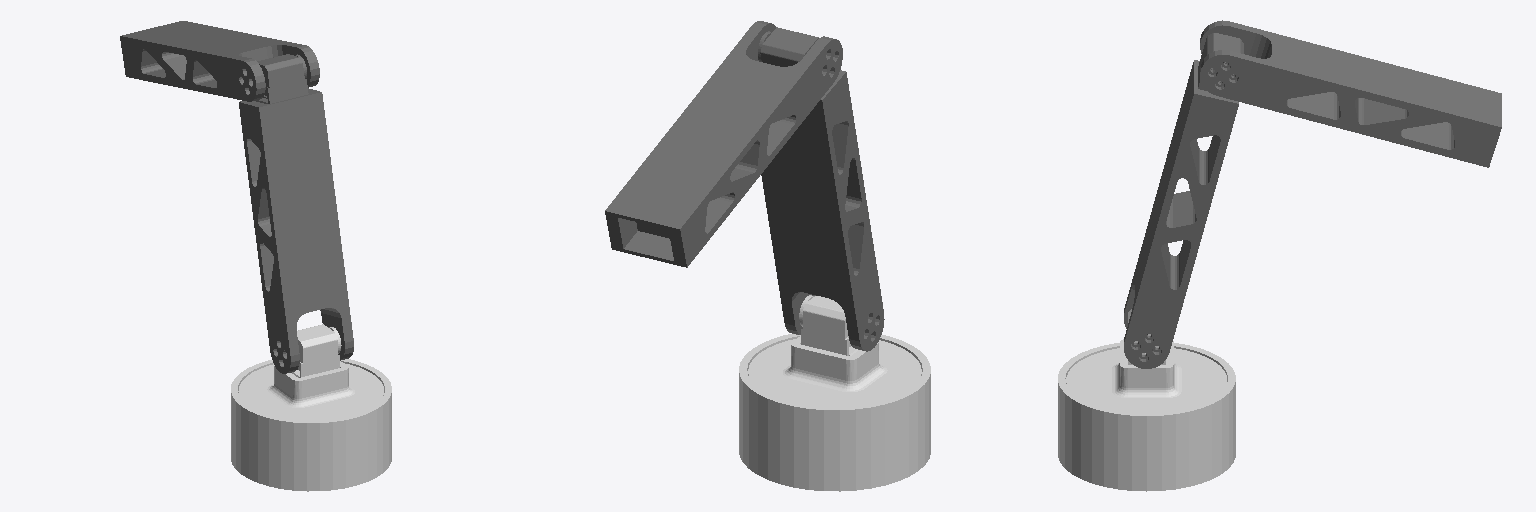
robot.urdf — 3DOF:
<?xml version="1.0" encoding="utf-8"?>
<!-- This URDF was automatically created by SolidWorks to URDF Exporter! Originally created by Stephen Brawner (brawner@gmail.com) 
     Commit Version: 1.6.0-4-g7f85cfe  Build Version: 1.6.7995.38578
     For more information, please see http://wiki.ros.org/sw_urdf_exporter -->
<robot
  name="3DOF">
  <link
    name="BASE">
    <inertial>
      <origin
        xyz="-0.046722 0.016179 -0.00011322"
        rpy="0 0 0" />
      <mass
        value="0.39488" />
      <inertia
        ixx="0.00075847"
        ixy="1.1116E-07"
        ixz="-1.3265E-10"
        iyy="0.0004355"
        iyz="-4.6604E-10"
        izz="0.00044714" />
    </inertial>
    <visual>
      <origin
        xyz="0 0 -0.030"
        rpy="0 -1.5708 0" />
      <geometry>
        <mesh
          filename="package://3DOF/meshes/BASE.STL" />
      </geometry>
      <material
        name="">
        <color
          rgba="0.89412 0.89412 0.89412 1" />
      </material>
    </visual>
    <collision>
      <origin
        xyz="0 0 -0.030"
        rpy="0 -1.5708 0" />
      <geometry>
        <mesh
          filename="package://3DOF/meshes/BASE.STL" />
      </geometry>
    </collision>
  </link>
  <link
    name="360">
    <inertial>
      <origin
        xyz="0.000451242535699416 -3.21293104430659E-08 -0.0140878164140089"
        rpy="0 0 0" />
      <mass
        value="0.0909445849181863" />
      <inertia
        ixx="4.01654776799178E-05"
        ixy="-2.23532303913554E-11"
        ixz="8.87745353970843E-09"
        iyy="4.24973750262404E-05"
        iyz="-3.56250430080118E-12"
        izz="6.76207003772057E-05" />
    </inertial>
    <visual>
      <origin
        xyz="0 0 0"
        rpy="0 0 0" />
      <geometry>
        <mesh
          filename="package://3DOF/meshes/360.STL" />
      </geometry>
      <material
        name="">
        <color
          rgba="0.894117647058823 0.894117647058823 0.894117647058823 1" />
      </material>
    </visual>
    <collision>
      <origin
        xyz="0 0 0"
        rpy="0 0 0" />
      <geometry>
        <mesh
          filename="package://3DOF/meshes/360.STL" />
      </geometry>
    </collision>
  </link>
  <joint
    name="360_JNT"
    type="revolute">
    <origin
      xyz="0 0 0.040"
      rpy="0 0 0" />
    <parent
      link="BASE" />
    <child
      link="360" />
    <axis
      xyz="0 0 1" />
    <limit
      lower="-1.57"
      upper="1.57"
      effort="0.5"
      velocity="0" />
  </joint>
  <link
    name="SHOULDER">
    <inertial>
      <origin
        xyz="0.103285145106398 0.000611682495221113 -0.000349167698933736"
        rpy="0 0 0" />
      <mass
        value="0.258971956174642" />
      <inertia
        ixx="8.49110245197935E-05"
        ixy="8.87745353986522E-09"
        ixz="1.11698926725844E-06"
        iyy="0.000440711763564425"
        iyz="-2.2353230404908E-11"
        izz="0.000479430446230574" />
    </inertial>
    <visual>
      <origin
        xyz="0 0 0"
        rpy="0 0 0" />
      <geometry>
        <mesh
          filename="package://3DOF/meshes/SHOULDER.STL" />
      </geometry>
      <material
        name="">
        <color
          rgba="0.498039215686275 0.498039215686275 0.498039215686275 1" />
      </material>
    </visual>
    <collision>
      <origin
        xyz="0 0 0"
        rpy="0 0 0" />
      <geometry>
        <mesh
          filename="package://3DOF/meshes/SHOULDER.STL" />
      </geometry>
    </collision>
  </link>
  <joint
    name="SHOULDER_JNT"
    type="revolute">
    <origin
      xyz="0 0 0.0125"
      rpy="-3.1416 -1.3223 1.5708" />
    <parent
      link="360" />
    <child
      link="SHOULDER" />
    <axis
      xyz="0 1 0" />
    <limit
      lower="-1.57"
      upper="1.57"
      effort="0"
      velocity="0" />
  </joint>
  <link
    name="ELBOW">
    <inertial>
      <origin
        xyz="0.0904844036220961 0.000730000000000163 -0.000402452516485879"
        rpy="0 0 0" />
      <mass
        value="0.224676741565665" />
      <inertia
        ixx="8.04797113889882E-05"
        ixy="-3.9387032047325E-20"
        ixz="1.11699282976277E-06"
        iyy="0.00043347009515784"
        iyz="3.76929661528164E-20"
        izz="0.000471085671685679" />
    </inertial>
    <visual>
      <origin
        xyz="0 0 0"
        rpy="0 0 0" />
      <geometry>
        <mesh
          filename="package://3DOF/meshes/ELBOW.STL" />
      </geometry>
      <material
        name="">
        <color
          rgba="0.498039215686275 0.498039215686275 0.498039215686275 1" />
      </material>
    </visual>
    <collision>
      <origin
        xyz="0 0 0"
        rpy="0 0 0" />
      <geometry>
        <mesh
          filename="package://3DOF/meshes/ELBOW.STL" />
      </geometry>
    </collision>
  </link>
  <joint
    name="ELBOW_JNT"
    type="revolute">
    <origin
      xyz="0.2 0 0"
      rpy="-3.1416 -1.5349 3.1416" />
    <parent
      link="SHOULDER" />
    <child
      link="ELBOW" />
    <axis
      xyz="0 1 0" />
    <limit
      lower="-1.57"
      upper="1.57"
      effort="0"
      velocity="0" />
  </joint>
</robot>

--- Render facts (derived) ---
3 views of the same robot in one strip: view 1: azimuth 30°, elevation 25°; view 2: azimuth 150°, elevation 25°; view 3: azimuth 270°, elevation 25° (orthographic).
Robot: 3DOF — 4 links, 3 joints (3 revolute); root link BASE; default pose: every joint at zero.
Links seen in each view (by area): view 1: SHOULDER, BASE, ELBOW, 360; view 2: ELBOW, SHOULDER, BASE, 360; view 3: ELBOW, SHOULDER, BASE, 360.
Link boxes in pixels (x1,y1,x2,y2): SHOULDER: [239, 54, 353, 373]; BASE: [231, 359, 391, 491]; ELBOW: [120, 21, 319, 101]; 360: [238, 324, 383, 419]; ELBOW: [605, 21, 842, 267]; SHOULDER: [758, 27, 884, 351]; BASE: [739, 334, 930, 491]; 360: [748, 295, 921, 406]; ELBOW: [1200, 20, 1501, 167]; SHOULDER: [1124, 33, 1243, 368]; BASE: [1058, 343, 1235, 491]; 360: [1066, 309, 1226, 412].
Size in the robot's own frame: 0.115 by 0.2862 by 0.2964 metres.
Meshes: 4 distinct files referenced, 4 mesh visuals loaded (4 binary STL).
